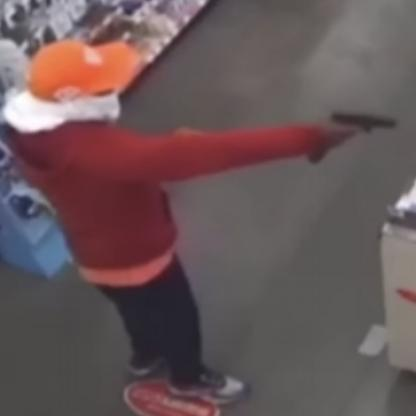criminal: (4, 40, 399, 405)
weapon: (307, 106, 399, 164)
